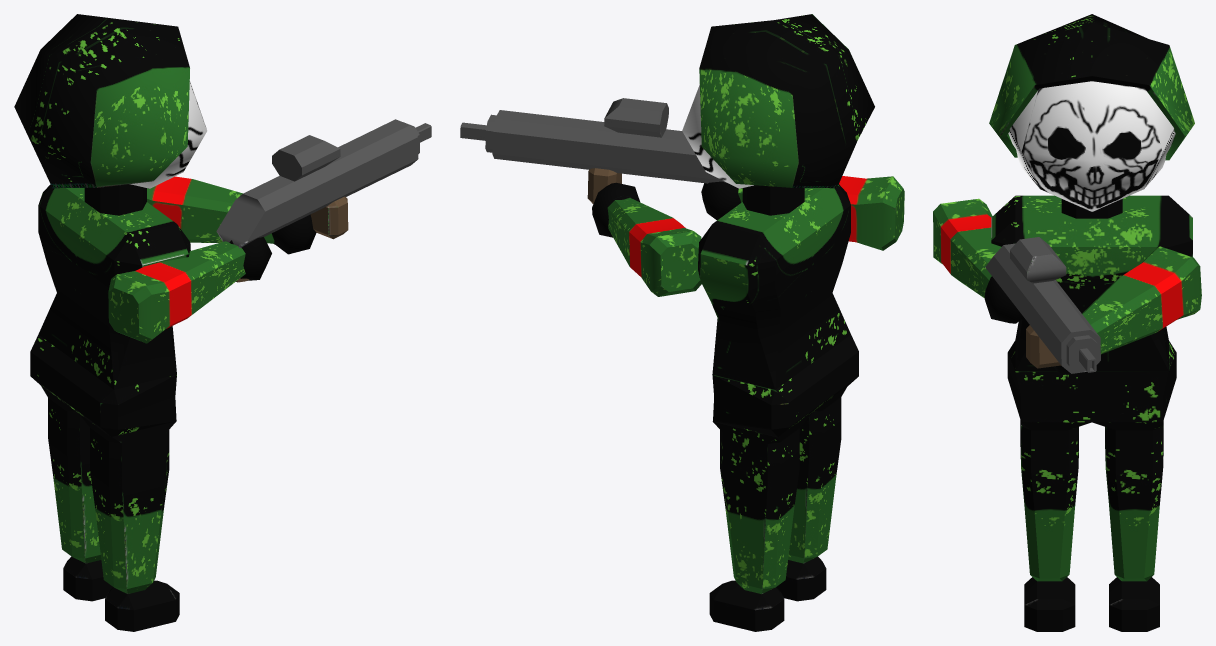
The model's file is Soldier_general_01.fbx.
The picture shows the model from 3 angles, left to right: view 1: azimuth 30°, elevation 25°; view 2: azimuth 150°, elevation 25°; view 3: azimuth 270°, elevation 25°; orthographic projection.
Parts seen in each view (by area): view 1: Soldier_low_01:MOD_Solidier; view 2: Soldier_low_01:MOD_Solidier; view 3: Soldier_low_01:MOD_Solidier.
Boxes of the visible parts, box(x1,y1,x2,y2) form: Soldier_low_01:MOD_Solidier: box(14, 14, 431, 631); Soldier_low_01:MOD_Solidier: box(460, 14, 904, 631); Soldier_low_01:MOD_Solidier: box(933, 14, 1201, 631).
Bounding box in the file's own units: 94.55 × 133 × 54.67.
1 material, 1 textured.
